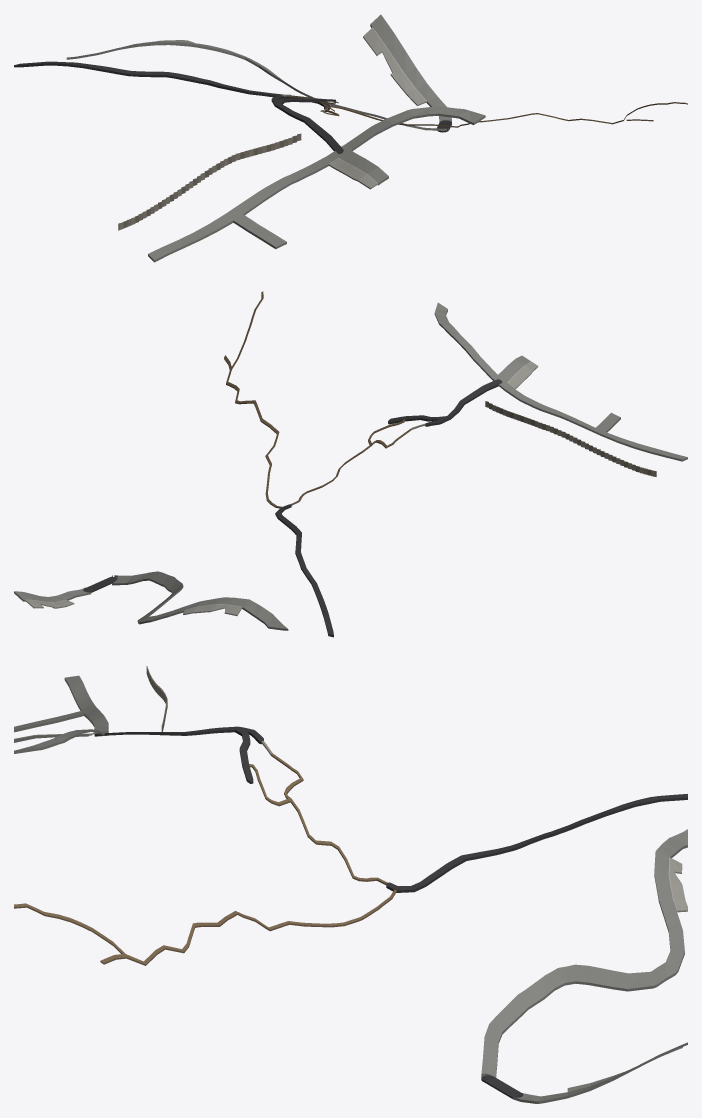
The picture shows the model from 3 angles, top to bottom: view 1: azimuth 30°, elevation 25°; view 2: azimuth 150°, elevation 25°; view 3: azimuth 270°, elevation 25°; orthographic projection. The views are drawn at different scales.
Size of the model in its own units: 293 by 117 by 292.
